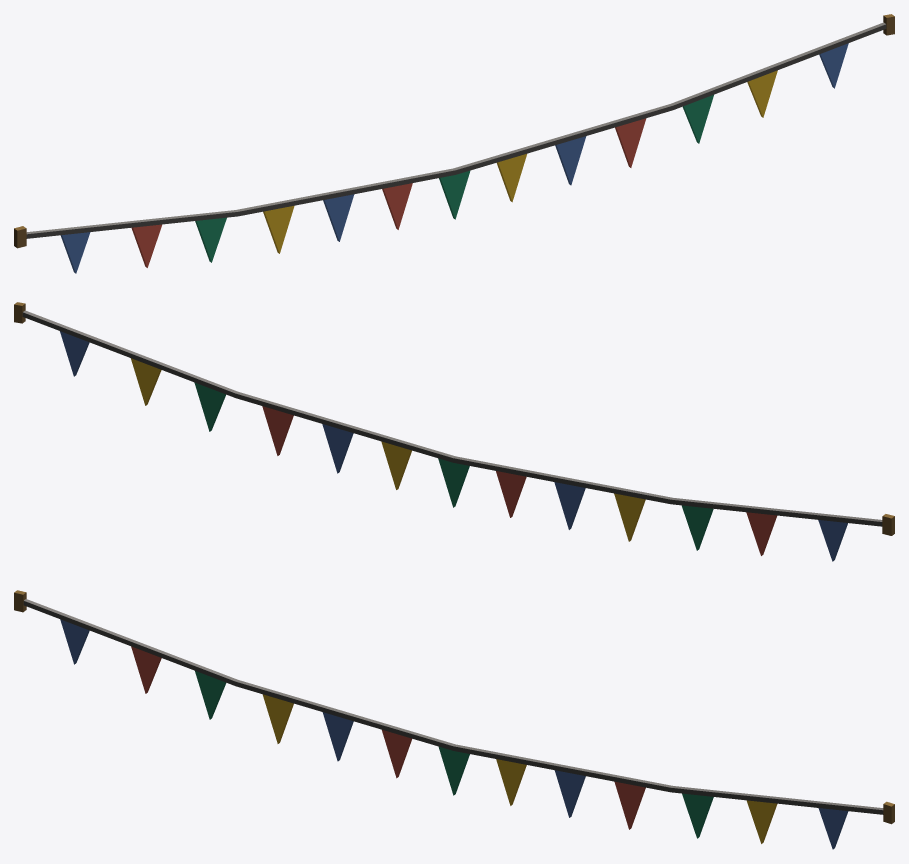
The model's file is SF_Prop_FlagString_01.fbx.
3 views of the same model, one above another, from view 1: azimuth 30°, elevation 25°; view 2: azimuth 150°, elevation 25°; view 3: azimuth 330°, elevation 25° (orthographic).
Visible parts, largest first — view 1: SF_Prop_FlagString_01; view 2: SF_Prop_FlagString_01; view 3: SF_Prop_FlagString_01.
Boxes of the visible parts, bbox=[...] form: SF_Prop_FlagString_01: bbox=[14, 14, 894, 273]; SF_Prop_FlagString_01: bbox=[14, 302, 894, 561]; SF_Prop_FlagString_01: bbox=[14, 590, 894, 849].
Size of the model in its own units: 11.28 by 1.19 by 0.0773.
